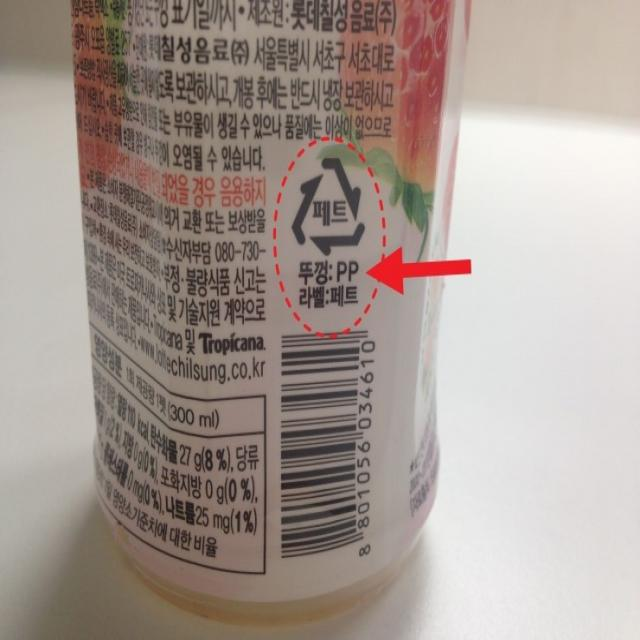PET: (289, 149, 373, 260)
